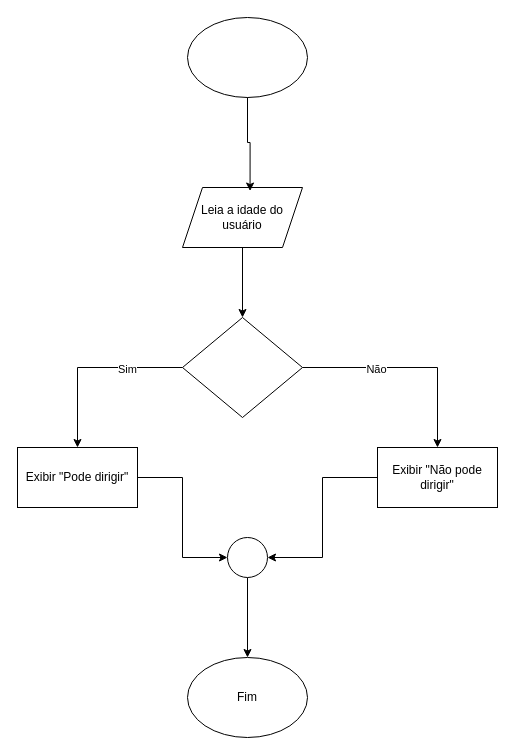
Some shapes in this 515 by 755 pixel diagram are drawn without their labels. Each missing label, with the centre of its shape:
"Idade >= 18?" goes at (x=242, y=367).
"Início" goes at (x=247, y=57).
